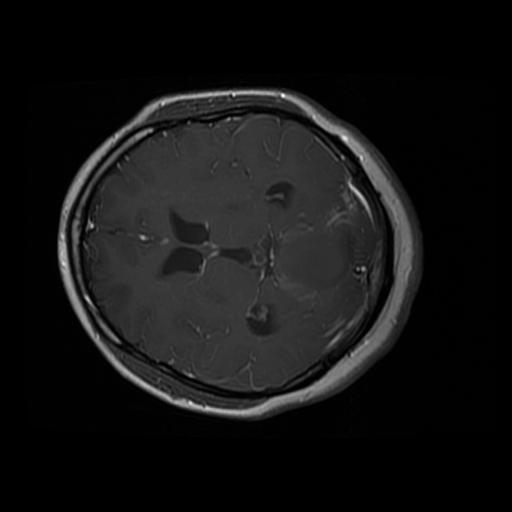glioma: (273, 198, 376, 346)
